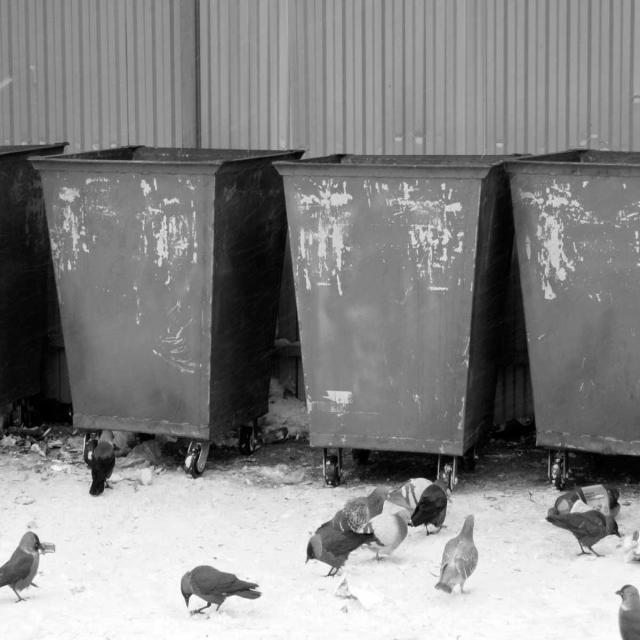bin: (19, 99, 319, 485), (266, 99, 540, 495), (489, 116, 639, 502), (0, 106, 83, 454)
